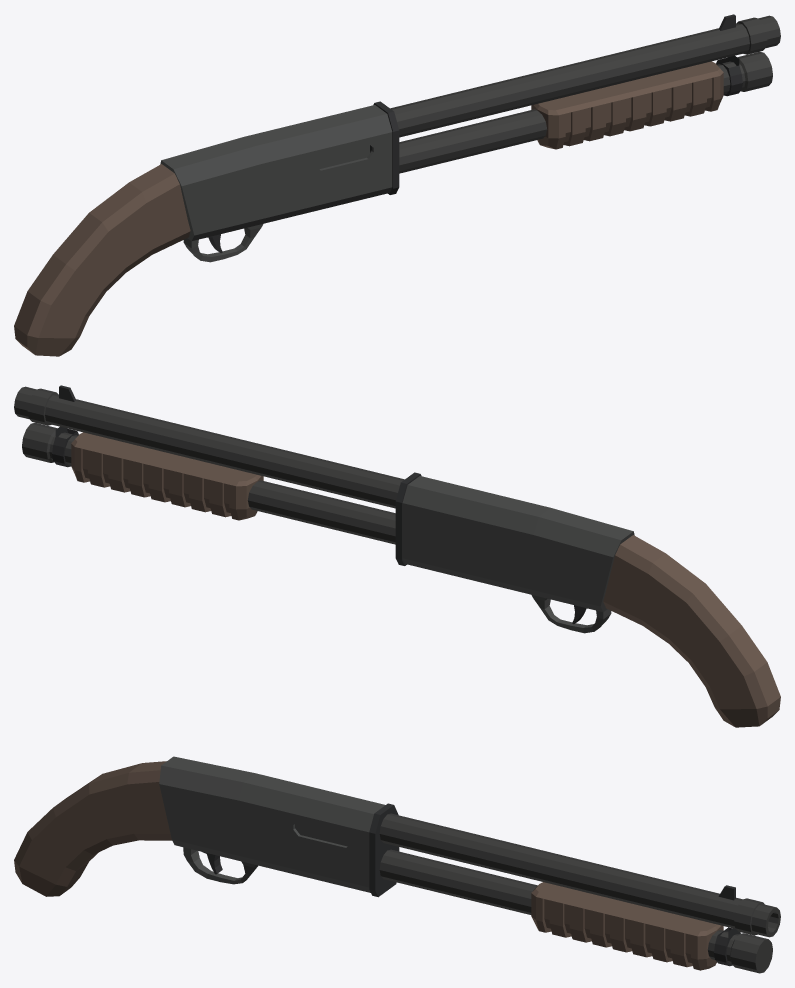
File: Shotgun_ShortStock.fbx
3 views of the same model, one above another, from view 1: azimuth 30°, elevation 25°; view 2: azimuth 150°, elevation 25°; view 3: azimuth 330°, elevation 25° (orthographic).
Visible parts, largest first — view 1: Shotgun_ShortStock, Pump; view 2: Shotgun_ShortStock, Pump; view 3: Shotgun_ShortStock, Pump.
Boxes of the visible parts, x1,y1,x2,y2 form: Shotgun_ShortStock: (14,14,780,356); Pump: (531,61,723,149); Shotgun_ShortStock: (14,385,780,727); Pump: (71,432,263,520); Shotgun_ShortStock: (14,756,780,973); Pump: (531,882,723,970).
Size of the model in its own units: 447 by 96.69 by 24.65.
